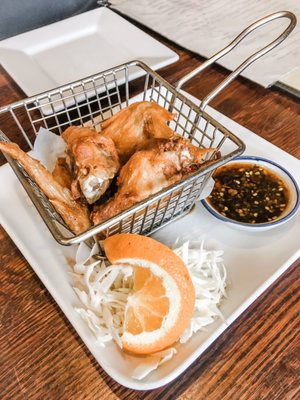sushi: (201, 158, 299, 235)
